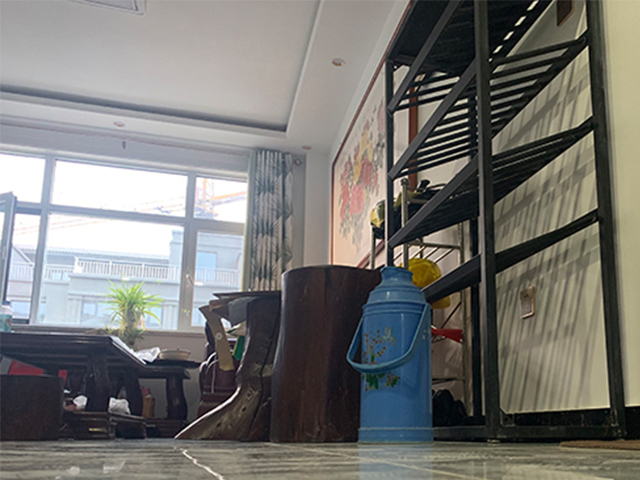curtain: (244, 147, 279, 289)
stool: (268, 264, 382, 443), (173, 297, 283, 443)
table: (1, 330, 148, 441)
